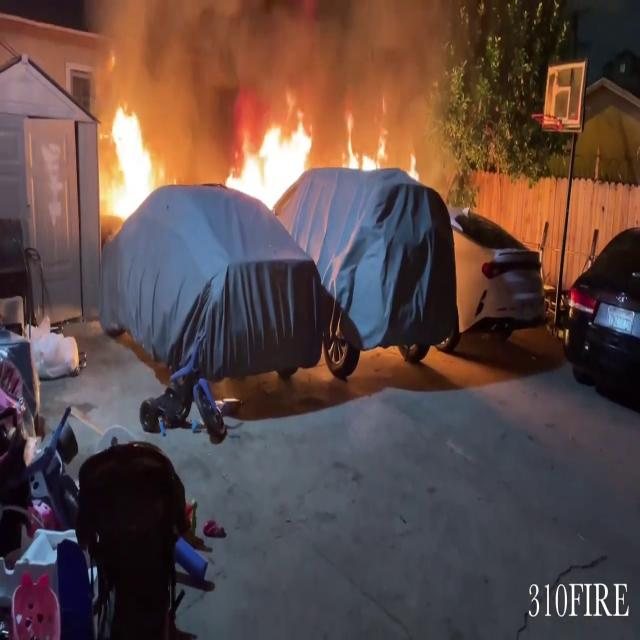Fire: (221, 107, 320, 209), (97, 94, 165, 224), (338, 112, 390, 174)
Smoke: (96, 0, 451, 110)
